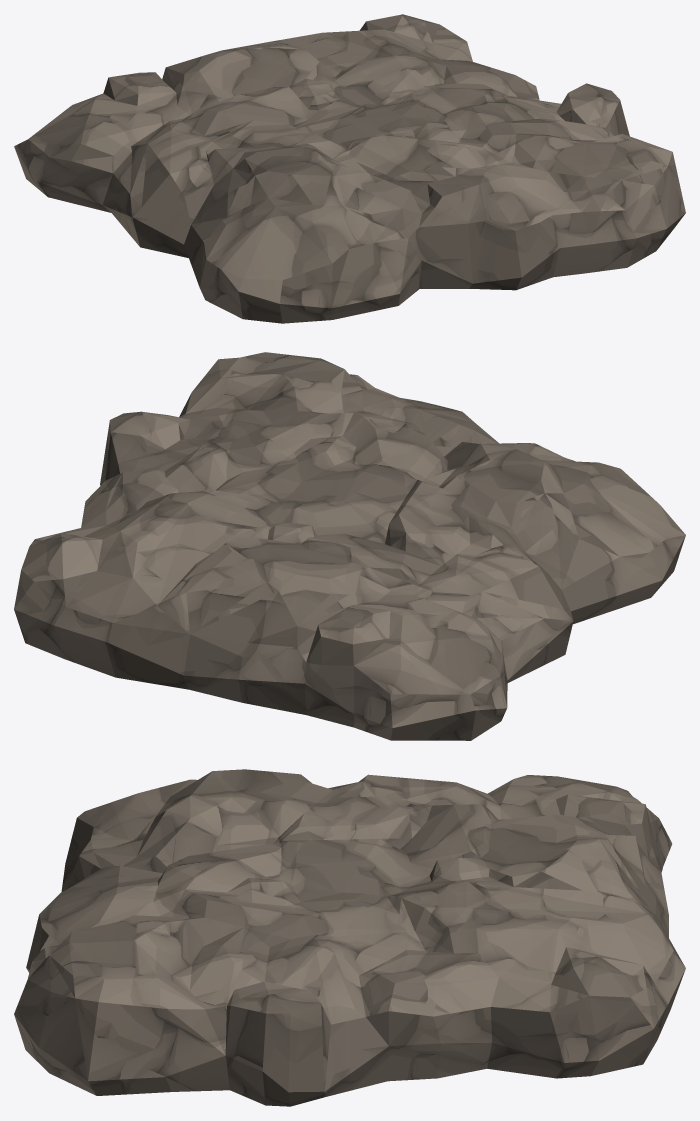
Rendered from synty-rock-tile-03.gltf.
The picture shows the model from 3 angles, top to bottom: view 1: azimuth 30°, elevation 25°; view 2: azimuth 150°, elevation 25°; view 3: azimuth 270°, elevation 25°; orthographic projection. The views are drawn at different scales.
Visible parts, largest first — view 1: SM_Rock_Tile_03; view 2: SM_Rock_Tile_03; view 3: SM_Rock_Tile_03.
Part boxes in pixels (x1,y1,x2,y2): SM_Rock_Tile_03: [14, 14, 685, 323]; SM_Rock_Tile_03: [14, 352, 685, 740]; SM_Rock_Tile_03: [14, 769, 685, 1106].
Bounding box in the file's own units: 10.75 × 2.19 × 10.78.
Materials: 1 (1 with a texture image).
